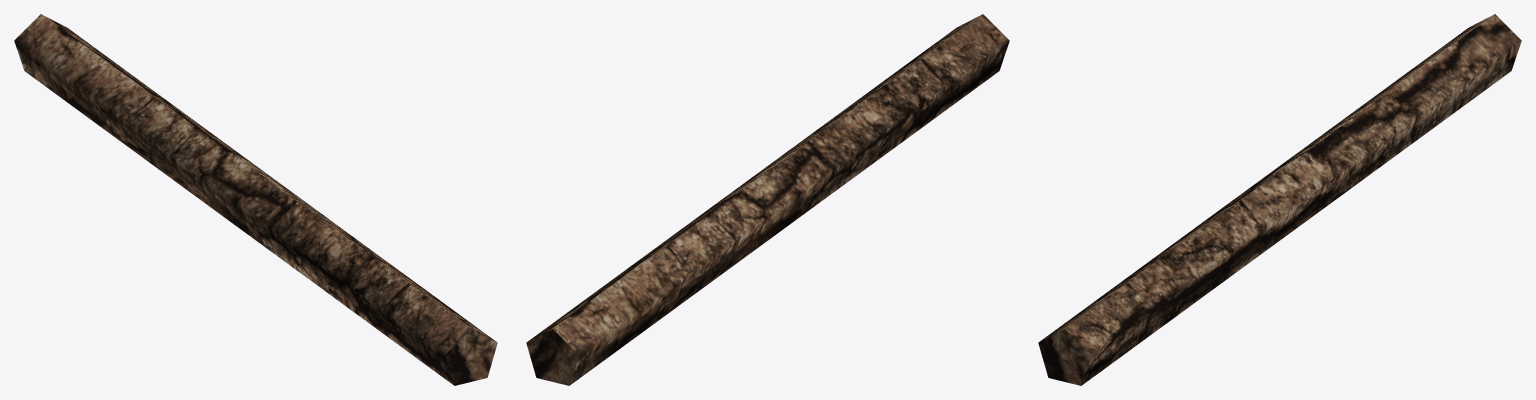
Rendered from SM_FOL_Stick_01_A.fbx.
The picture shows the model from 3 angles, left to right: view 1: azimuth 30°, elevation 25°; view 2: azimuth 150°, elevation 25°; view 3: azimuth 330°, elevation 25°; orthographic projection.
Parts seen in each view (by area): view 1: SM_FOL_Stick_01_A; view 2: SM_FOL_Stick_01_A; view 3: SM_FOL_Stick_01_A.
Boxes of the visible parts, <box> form: SM_FOL_Stick_01_A: <box>14,14,497,385</box>; SM_FOL_Stick_01_A: <box>526,14,1009,385</box>; SM_FOL_Stick_01_A: <box>1038,14,1521,385</box>.
Size of the model in its own units: 5.71 by 5.43 by 79.81.
1 material, 1 textured.
